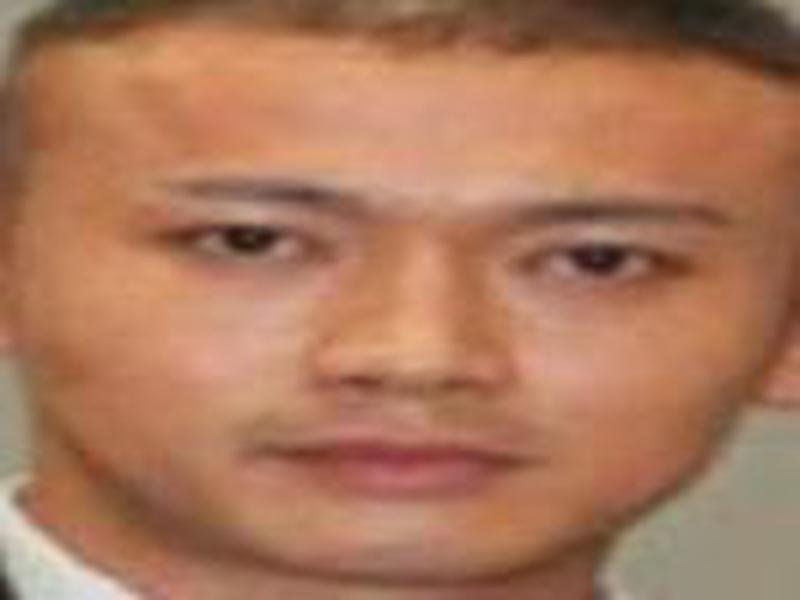without_mask: (24, 43, 785, 579)
